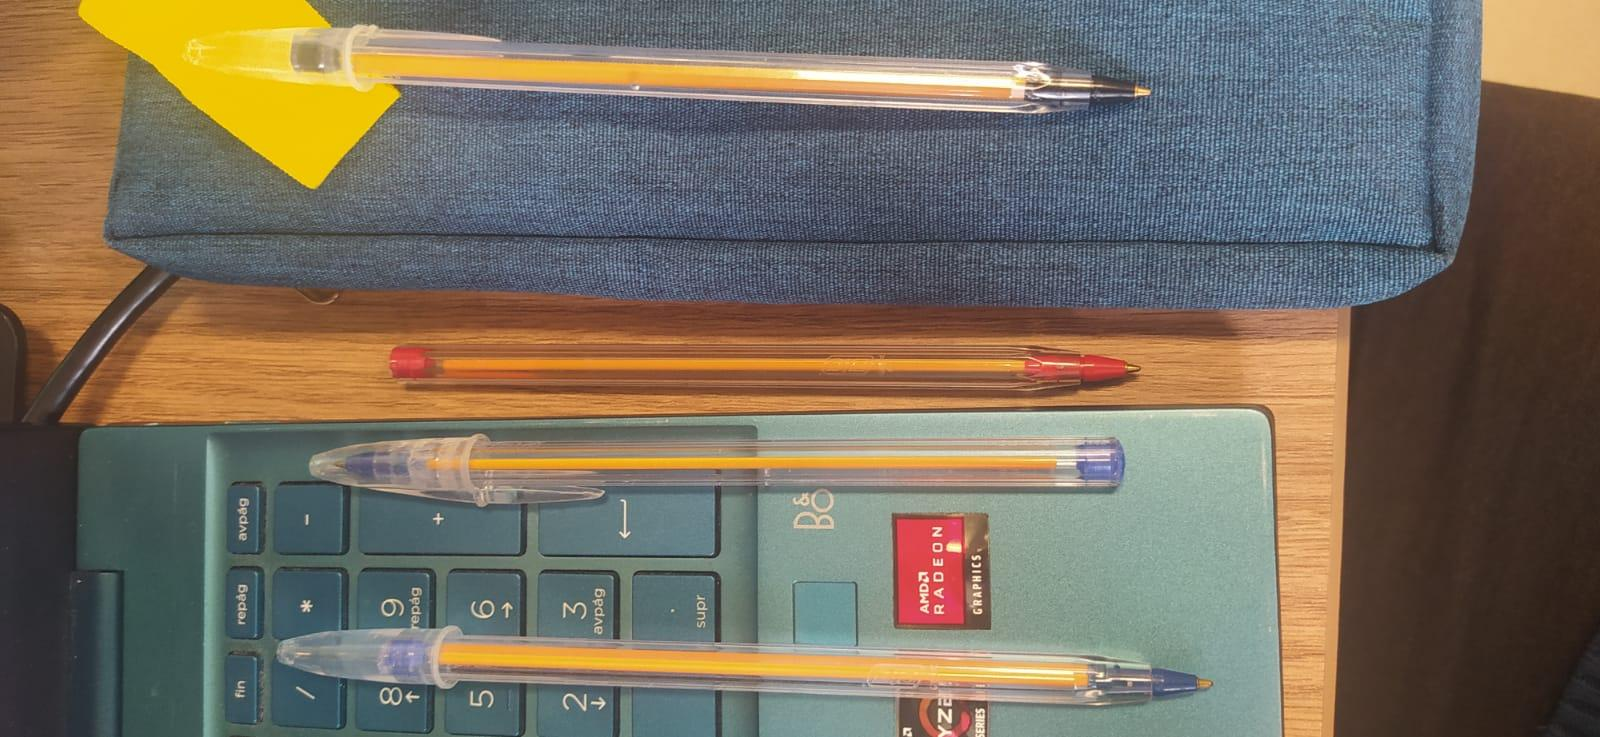pen: (182, 23, 1158, 121), (276, 625, 1216, 710), (297, 432, 1132, 510), (389, 338, 1147, 401)
